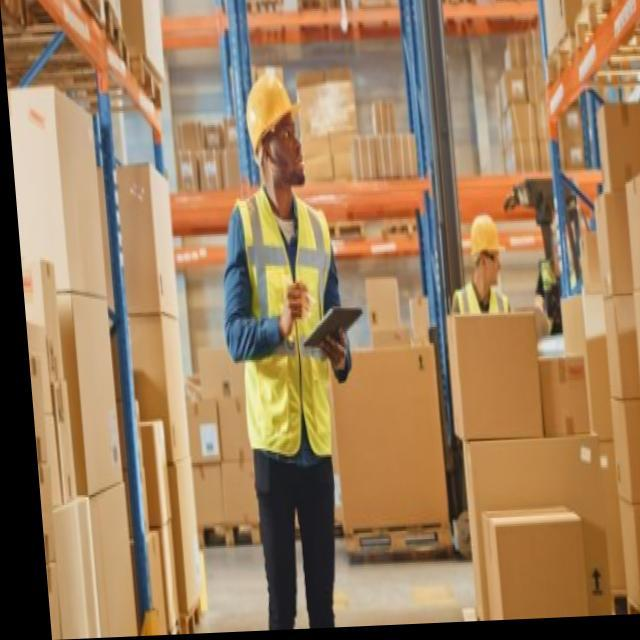helmet: (242, 67, 314, 188), (467, 211, 508, 284)
vest: (226, 180, 352, 468), (449, 274, 523, 409)
